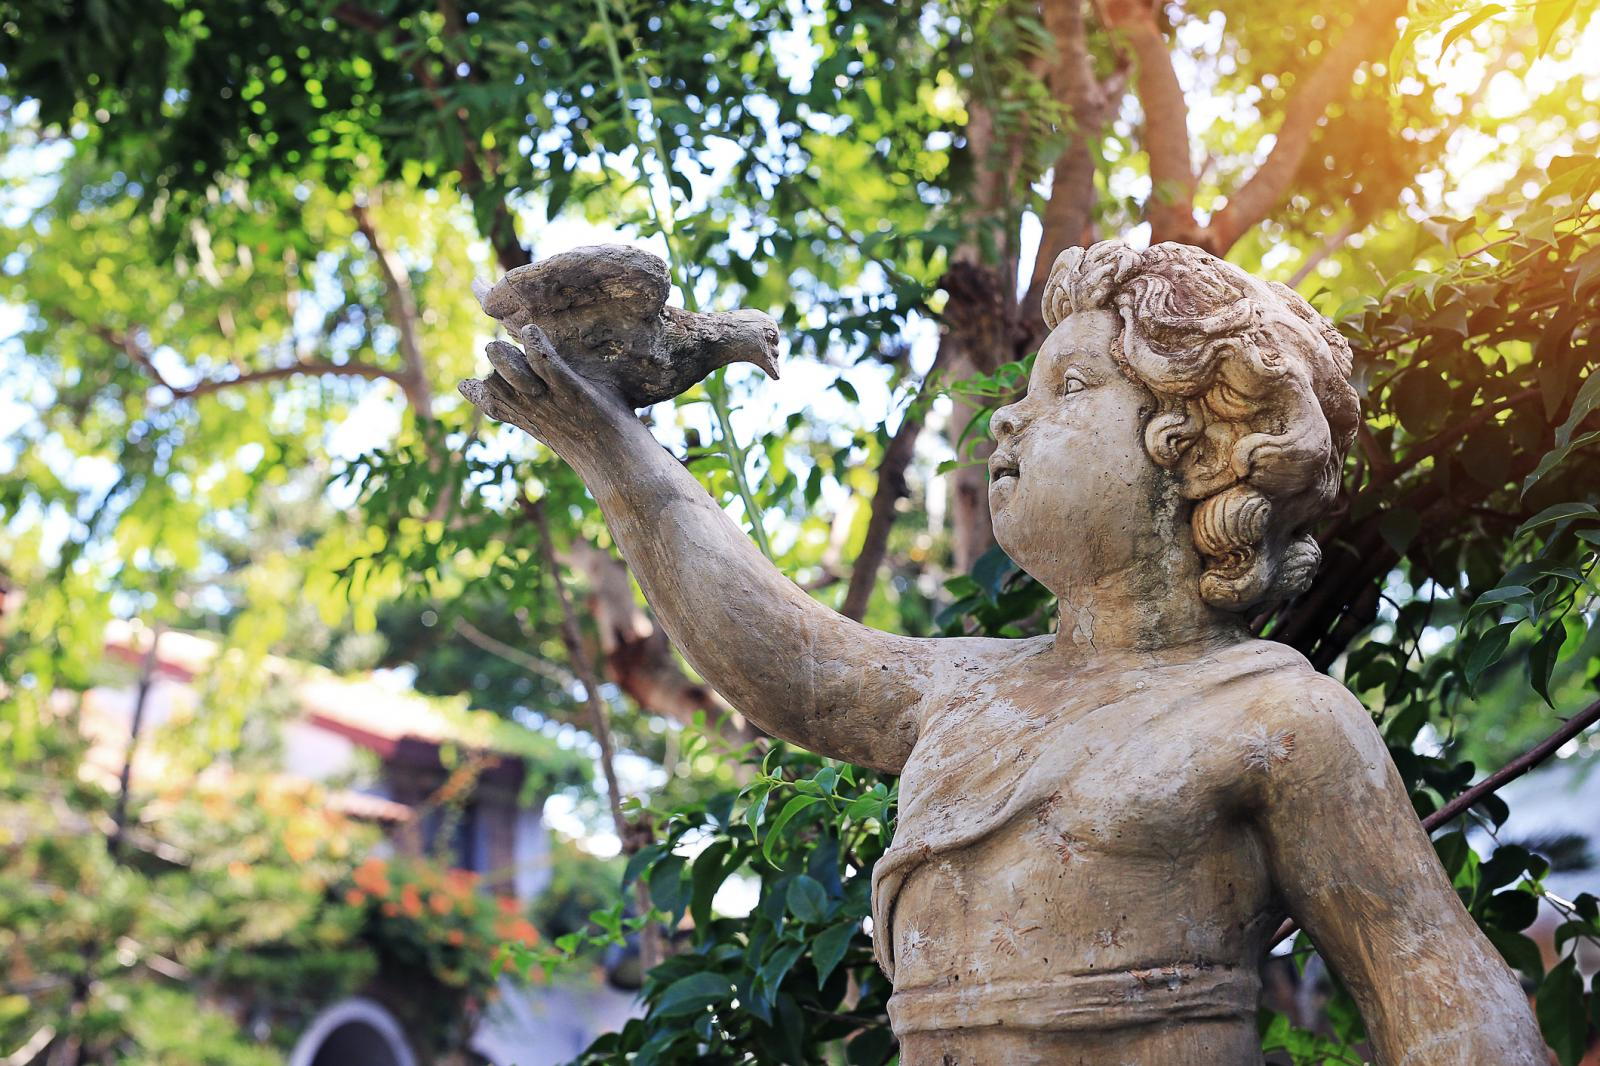person-like: (447, 223, 1560, 1066)
